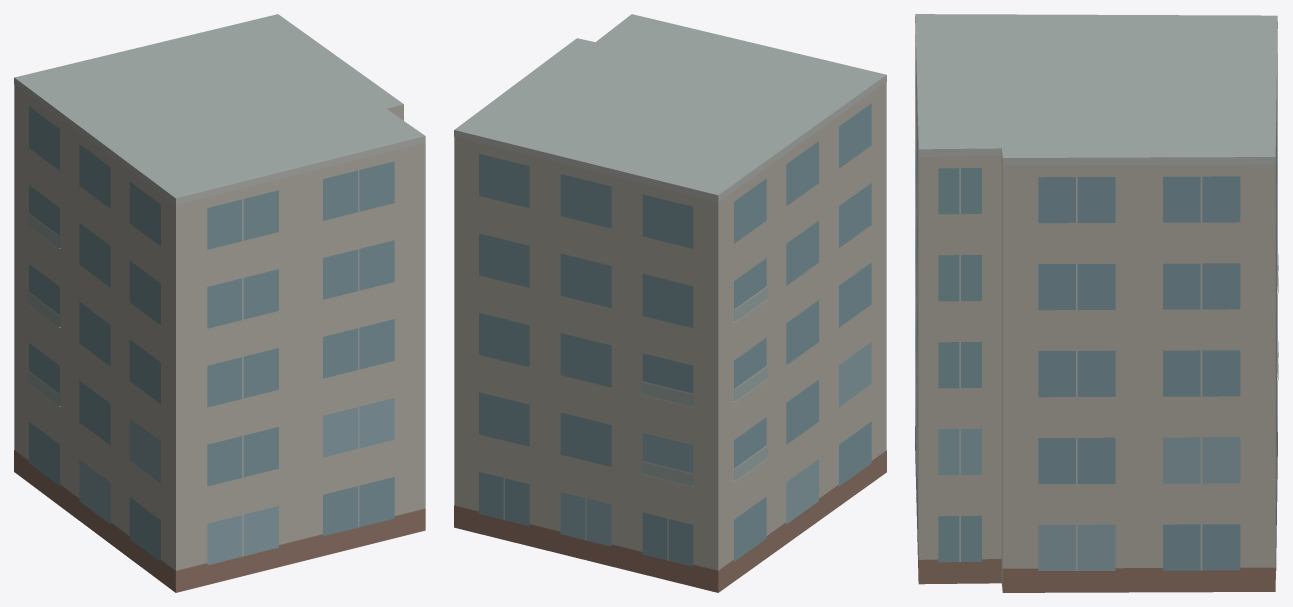
File: survey-upis-32816703.glb
3 renders of one model, left to right at view 1: azimuth 30°, elevation 25°; view 2: azimuth 150°, elevation 25°; view 3: azimuth 270°, elevation 25°, orthographic. The views are drawn at different scales.
Parts seen in each view (by area): view 1: survey-upis-32816703.tmp; view 2: survey-upis-32816703.tmp; view 3: survey-upis-32816703.tmp.
Boxes of the visible parts, <box> form: survey-upis-32816703.tmp: <box>14,14,425,592</box>; survey-upis-32816703.tmp: <box>454,14,886,592</box>; survey-upis-32816703.tmp: <box>915,14,1278,592</box>.
Bounding box in the file's own units: 10.17 × 14.3 × 10.84.
